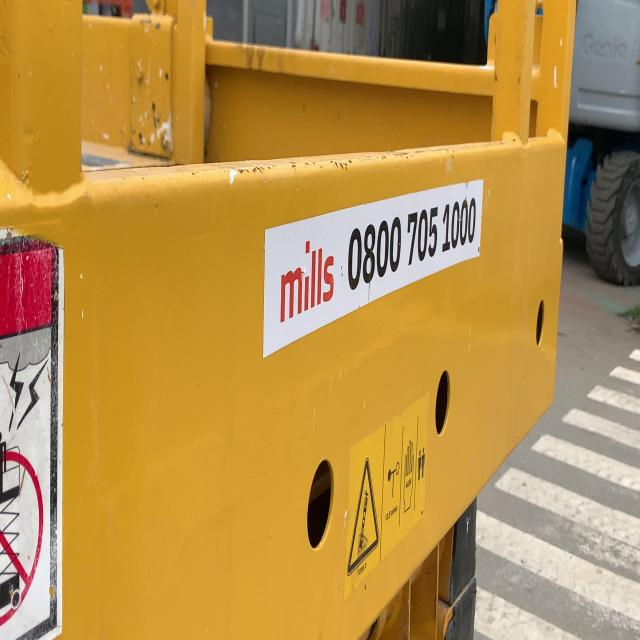Adesivos: (261, 172, 491, 375)
